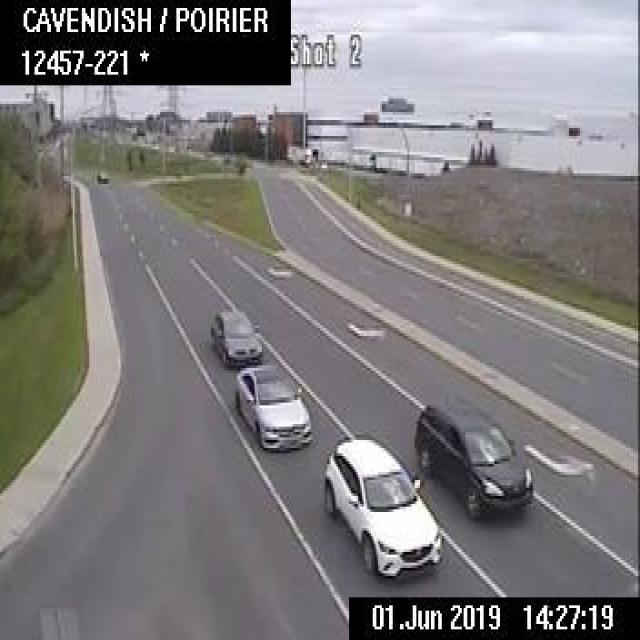vehicle: (318, 432, 440, 573), (413, 392, 531, 515), (232, 361, 311, 448), (209, 307, 262, 366), (96, 168, 109, 181)
